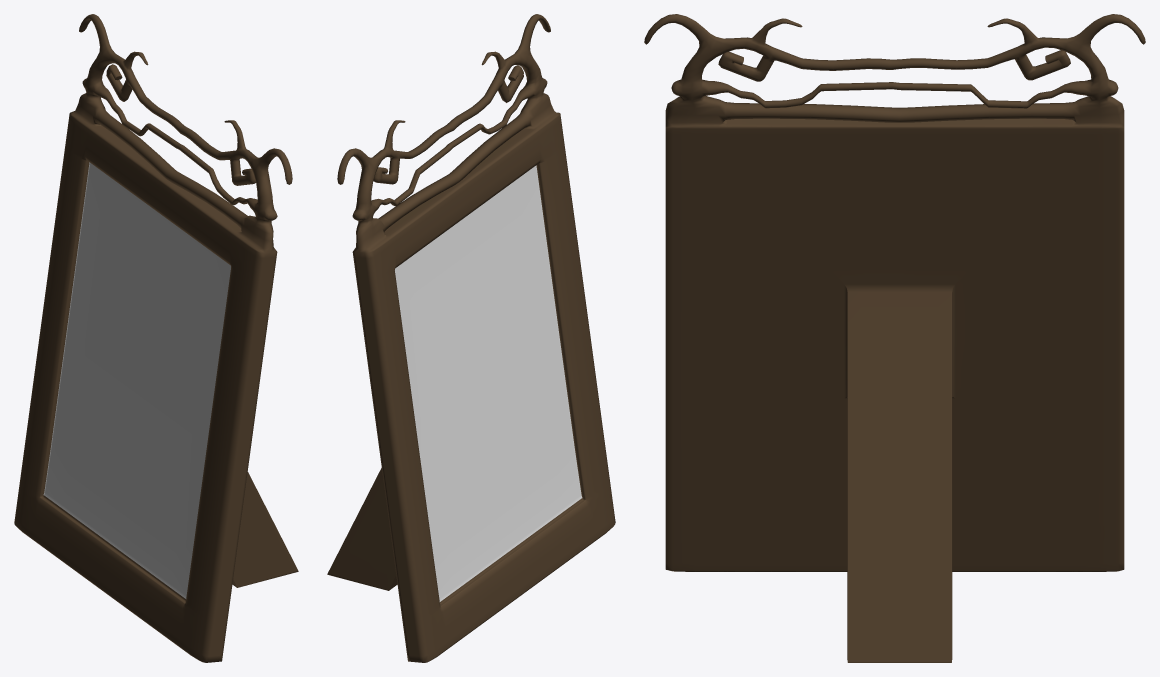
Rendered from Photo1.fbx.
3 views of the same model, side by side, from view 1: azimuth 30°, elevation 25°; view 2: azimuth 150°, elevation 25°; view 3: azimuth 270°, elevation 25° (orthographic). The views are drawn at different scales.
Parts seen in each view (by area): view 1: pCube39; view 2: pCube39; view 3: pCube39.
Boxes of the visible parts, x1,y1,x2,y2 form: pCube39: [14, 14, 298, 662]; pCube39: [327, 14, 615, 662]; pCube39: [644, 14, 1145, 662].
Size of the model in its own units: 1.28 by 3.56 by 2.71.
